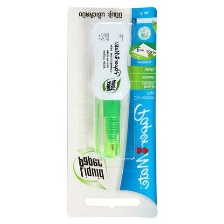book: (63, 4, 160, 219)
correction_fluid: (86, 20, 132, 159)
